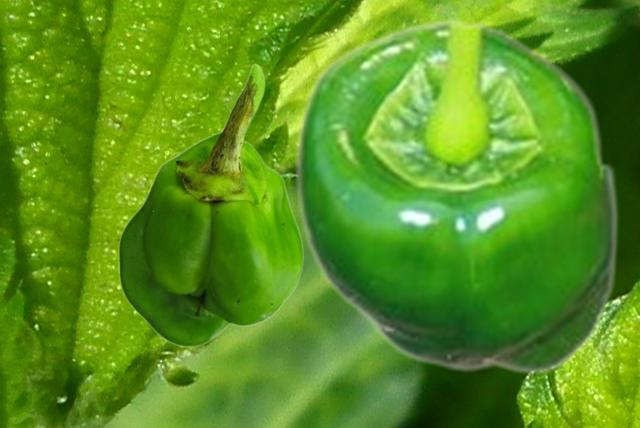bell_pepper: (292, 17, 619, 374), (117, 62, 303, 346)
